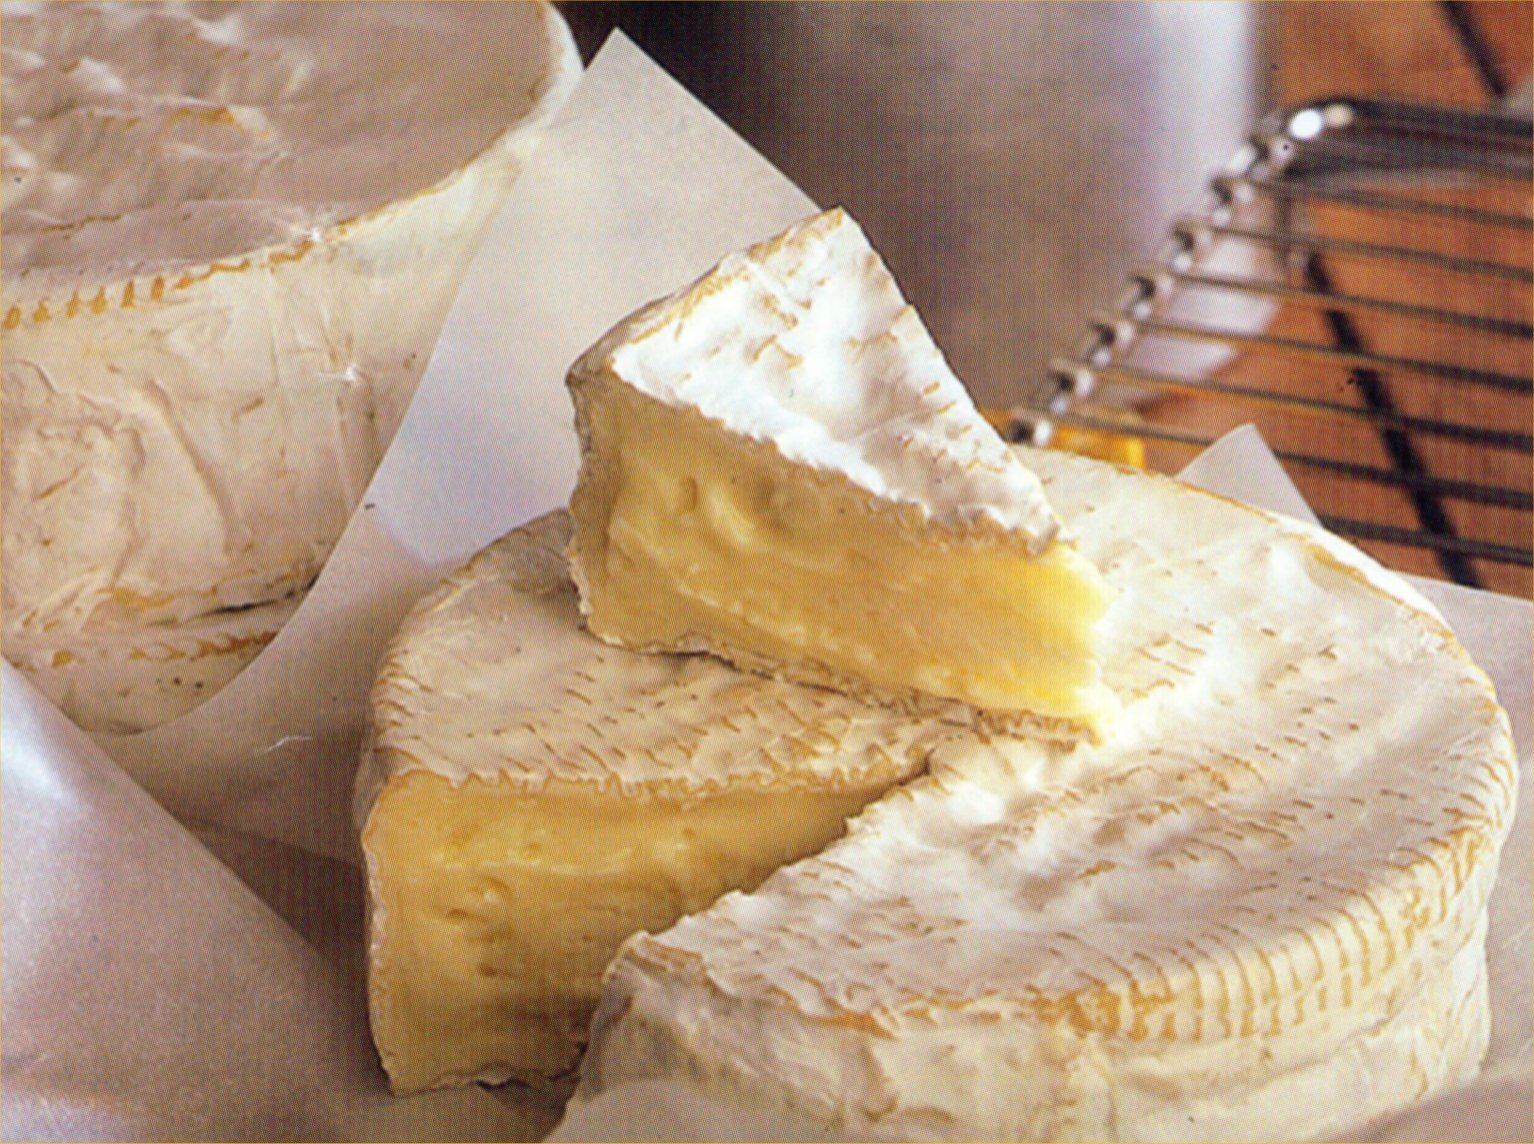camembert: (351, 205, 1518, 1144)
